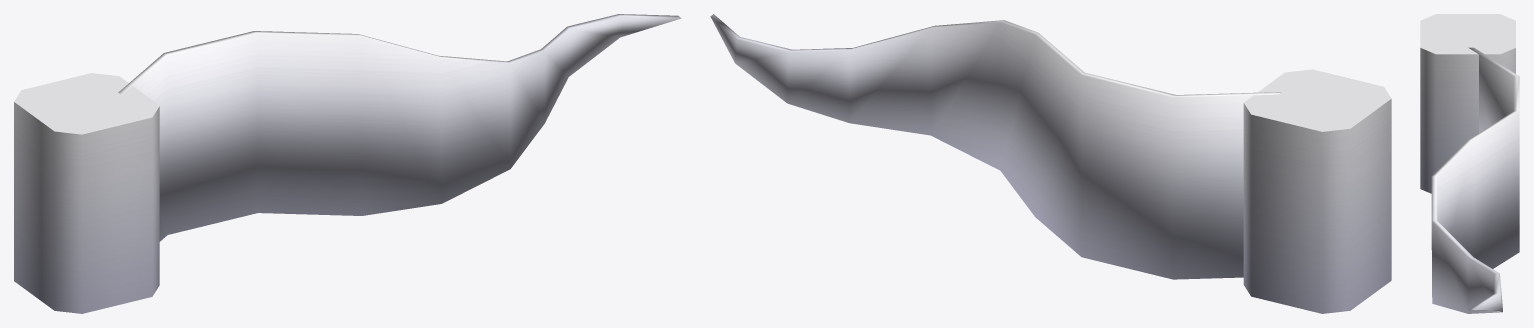
The model's file is flag.fbx.
The picture shows the model from 3 angles, left to right: view 1: azimuth 30°, elevation 25°; view 2: azimuth 150°, elevation 25°; view 3: azimuth 270°, elevation 25°; orthographic projection. The views are drawn at different scales.
Visible parts, largest first — view 1: flag-high-pennant.001; view 2: flag-high-pennant.001; view 3: flag-high-pennant.001.
Boxes of the visible parts, x1,y1,x2,y2 form: flag-high-pennant.001: (14, 14, 681, 313); flag-high-pennant.001: (710, 14, 1391, 313); flag-high-pennant.001: (1420, 14, 1519, 313).
Size of the model in its own units: 170 by 45.05 by 28.65.
